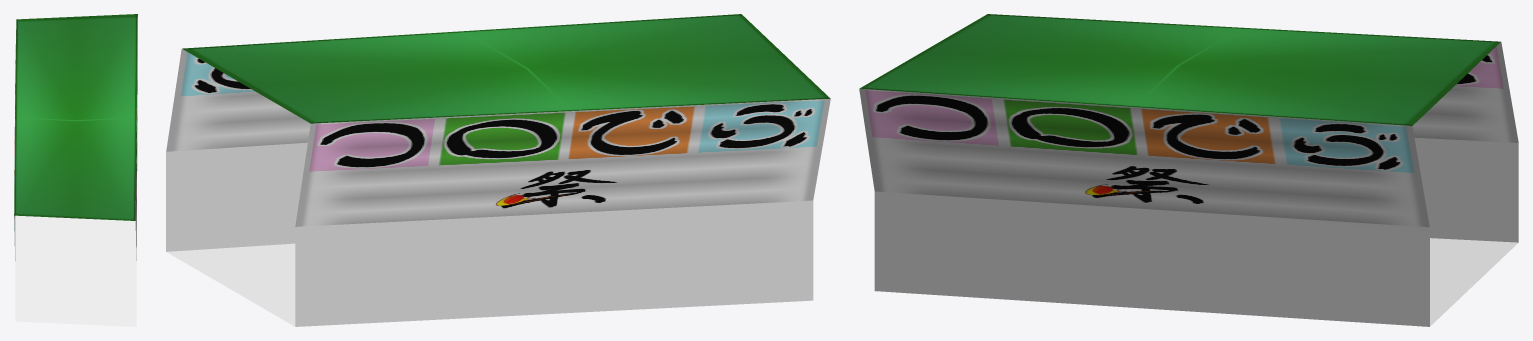
The model's file is CourseWinter_Wall_L_17_3.fbx.
3 renders of one model, left to right at view 1: azimuth 30°, elevation 25°; view 2: azimuth 150°, elevation 25°; view 3: azimuth 270°, elevation 25°, orthographic. The views are drawn at different scales.
Visible parts, largest first — view 1: polySurface602; view 2: polySurface602; view 3: polySurface602.
Part boxes in pixels (left/top/right/bottom): polySurface602: left=14, top=14, right=137, bottom=326; polySurface602: left=166, top=14, right=830, bottom=326; polySurface602: left=859, top=14, right=1518, bottom=326.
Size of the model in its own units: 4.63 by 2.98 by 6.
Materials: 1 (1 with a texture image).
